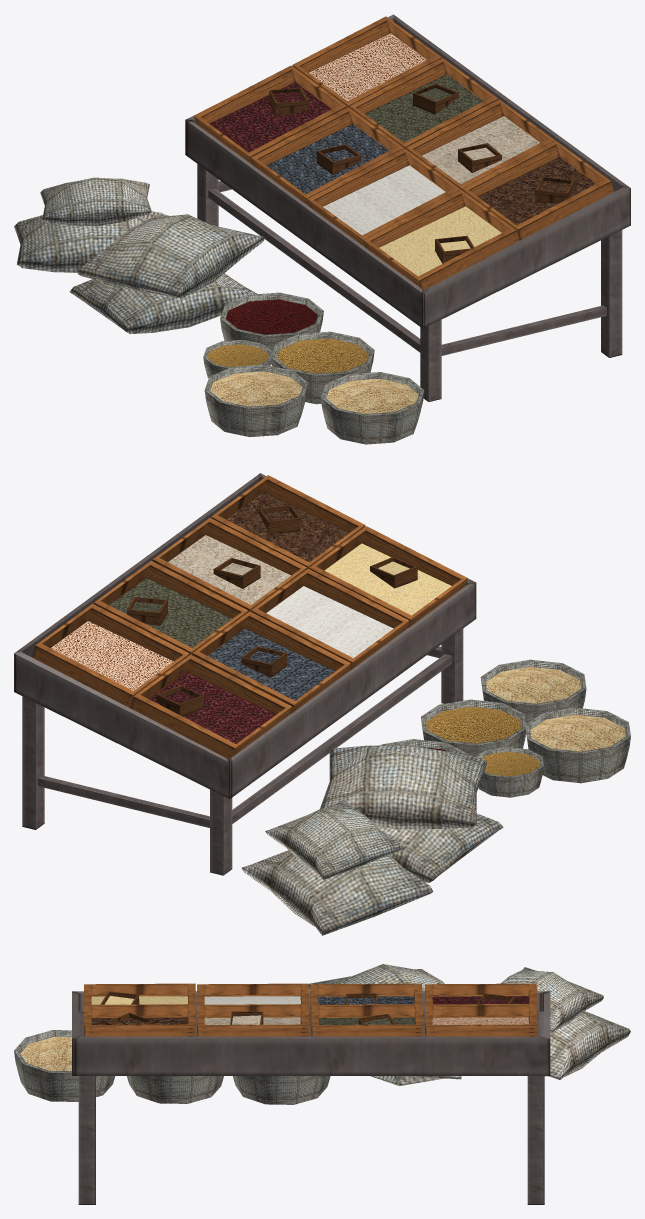
Rendered from gokmul_gage.FBX.
3 renders of one model, top to bottom at view 1: azimuth 30°, elevation 25°; view 2: azimuth 150°, elevation 25°; view 3: azimuth 270°, elevation 25°, orthographic. The views are drawn at different scales.
Visible parts, largest first — view 1: polySurface25, ob3, pCube020, pCube018, pCube019, pCube016, pCube4, pCube009, ob8, ob9, pCube007, pCube017 (+12 smaller); view 2: polySurface25, ob3, pCube016, ob1, pCube4, pCube018, pCube009, pCube020, pCube017, pCube007, ob8, pCube019 (+11 smaller); view 3: polySurface25, ob9, pCube016, pCube007, pCube019, pCube017, ob1, ob2, pCube018, ob5, ob7, pCube009 (+8 smaller).
Part boxes in pixels (<box>): polySurface25: <box>185,14,630,401</box>; ob3: <box>77,214,265,298</box>; pCube020: <box>363,189,518,289</box>; pCube018: <box>307,148,460,246</box>; pCube019: <box>462,140,613,240</box>; pCube016: <box>292,16,441,107</box>; pCube4: <box>194,65,347,164</box>; pCube009: <box>251,107,403,205</box>; ob8: <box>204,364,308,436</box>; ob9: <box>320,372,424,444</box>; pCube007: <box>349,57,498,149</box>; pCube017: <box>406,99,554,190</box>; polySurface25: <box>14,473,476,875</box>; ob3: <box>320,745,487,829</box>; pCube016: <box>32,603,189,708</box>; ob1: <box>241,850,433,935</box>; pCube4: <box>130,654,291,759</box>; pCube018: <box>251,568,409,670</box>; pCube009: <box>192,611,351,713</box>; pCube020: <box>309,526,467,627</box>; pCube017: <box>152,518,307,612</box>; pCube007: <box>93,561,247,655</box>; ob8: <box>525,707,630,783</box>; pCube019: <box>211,475,365,569</box>; polySurface25: <box>72,991,550,1204</box>; ob9: <box>14,1030,115,1101</box>; pCube016: <box>425,1005,536,1036</box>; pCube007: <box>311,1005,423,1036</box>; pCube019: <box>84,1005,195,1036</box>; pCube017: <box>197,1005,308,1036</box>; ob1: <box>545,1011,630,1079</box>; ob2: <box>500,967,603,1031</box>; pCube018: <box>197,983,309,1031</box>; ob5: <box>233,1076,330,1104</box>; ob7: <box>127,1076,223,1103</box>; pCube009: <box>310,983,422,1031</box>.
Size of the model in its own units: 26.8 by 12.56 by 36.41.
